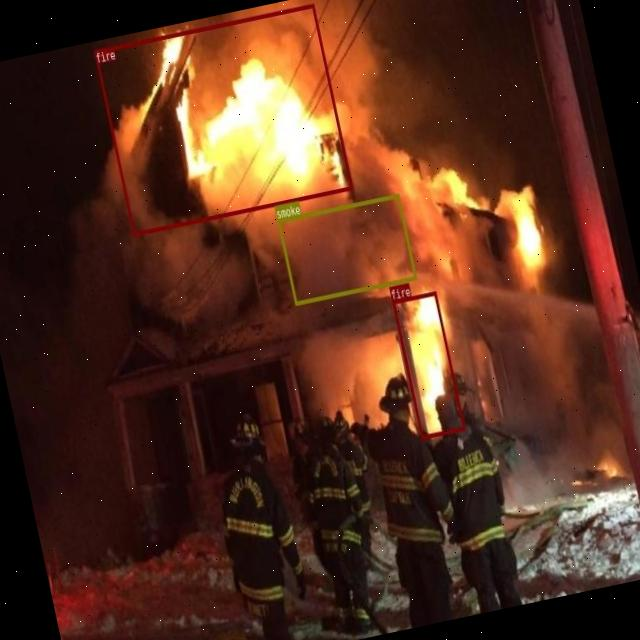fire: (92, 2, 352, 236), (392, 290, 464, 438)
smoke: (276, 193, 416, 304)
